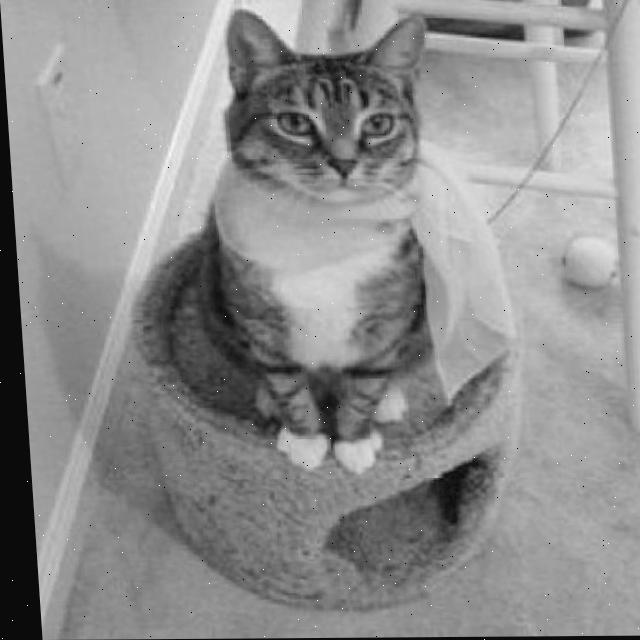Cat: (182, 5, 459, 476)
